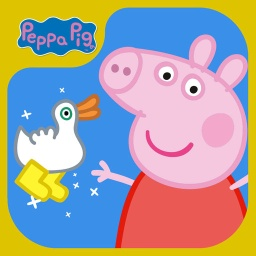Peppa: (90, 32, 250, 249)
